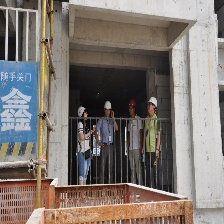helmet: (147, 96, 157, 106), (103, 100, 112, 110), (76, 106, 85, 115), (129, 98, 135, 107)
person: (96, 99, 118, 182), (144, 97, 164, 187), (125, 98, 145, 184), (77, 106, 92, 188)
